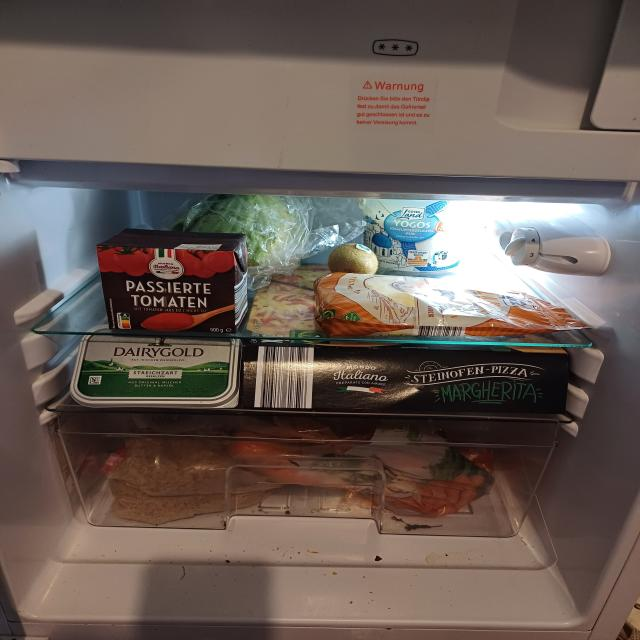Butter: (66, 333, 241, 412)
Cheese: (319, 271, 592, 341)
Pizza: (240, 339, 579, 414)
Plastic bag: (107, 425, 258, 520)
Tomato Puree: (93, 227, 248, 333)
Yogurt: (362, 193, 466, 274)
cabbage: (180, 192, 306, 274)
carrots: (237, 426, 500, 518)
kiwi: (331, 240, 379, 276)
